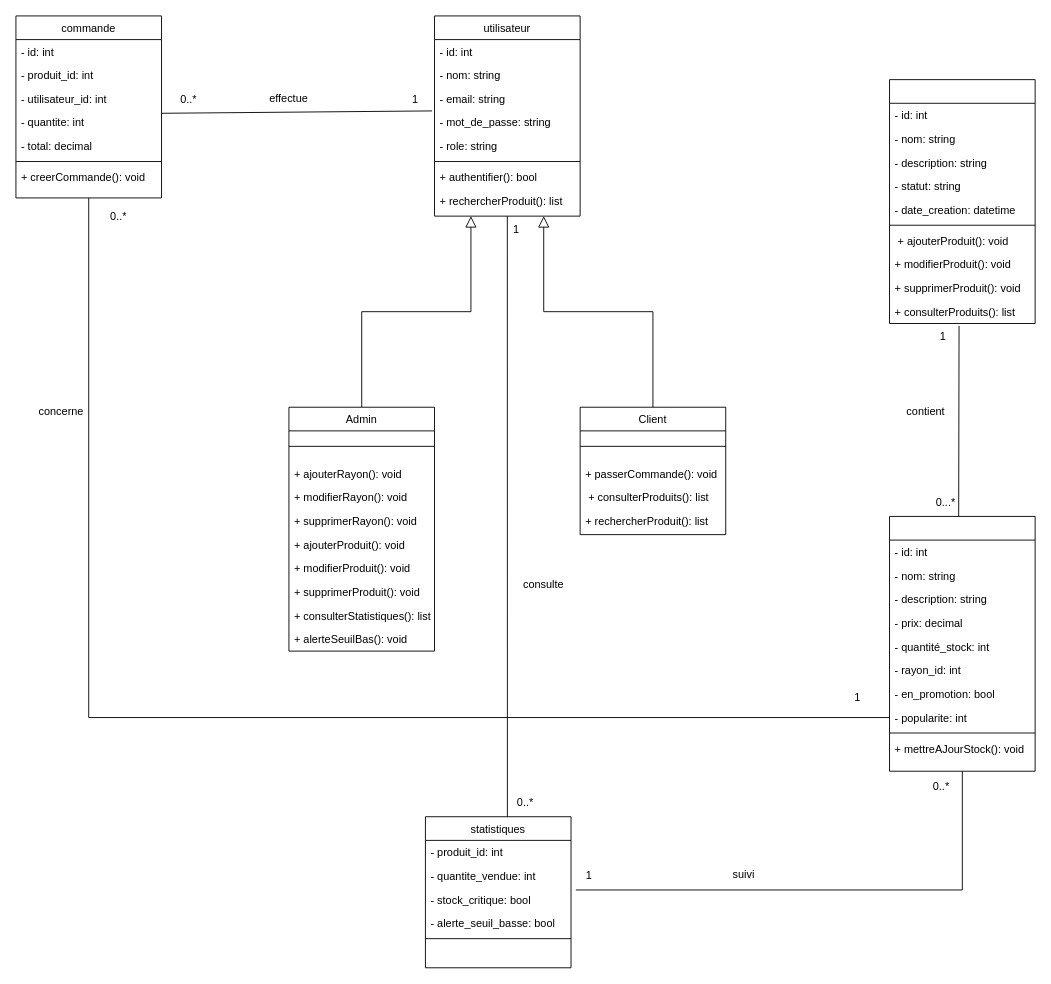
This 1051x984 diagram has some shape labels left out. The shapes that lost their labels are listed below. From the top down, each one's box as (x1, y1, x2, y2) in pixels, then its label:
(889, 79, 1035, 324): rayon
(889, 516, 1035, 771): produit
